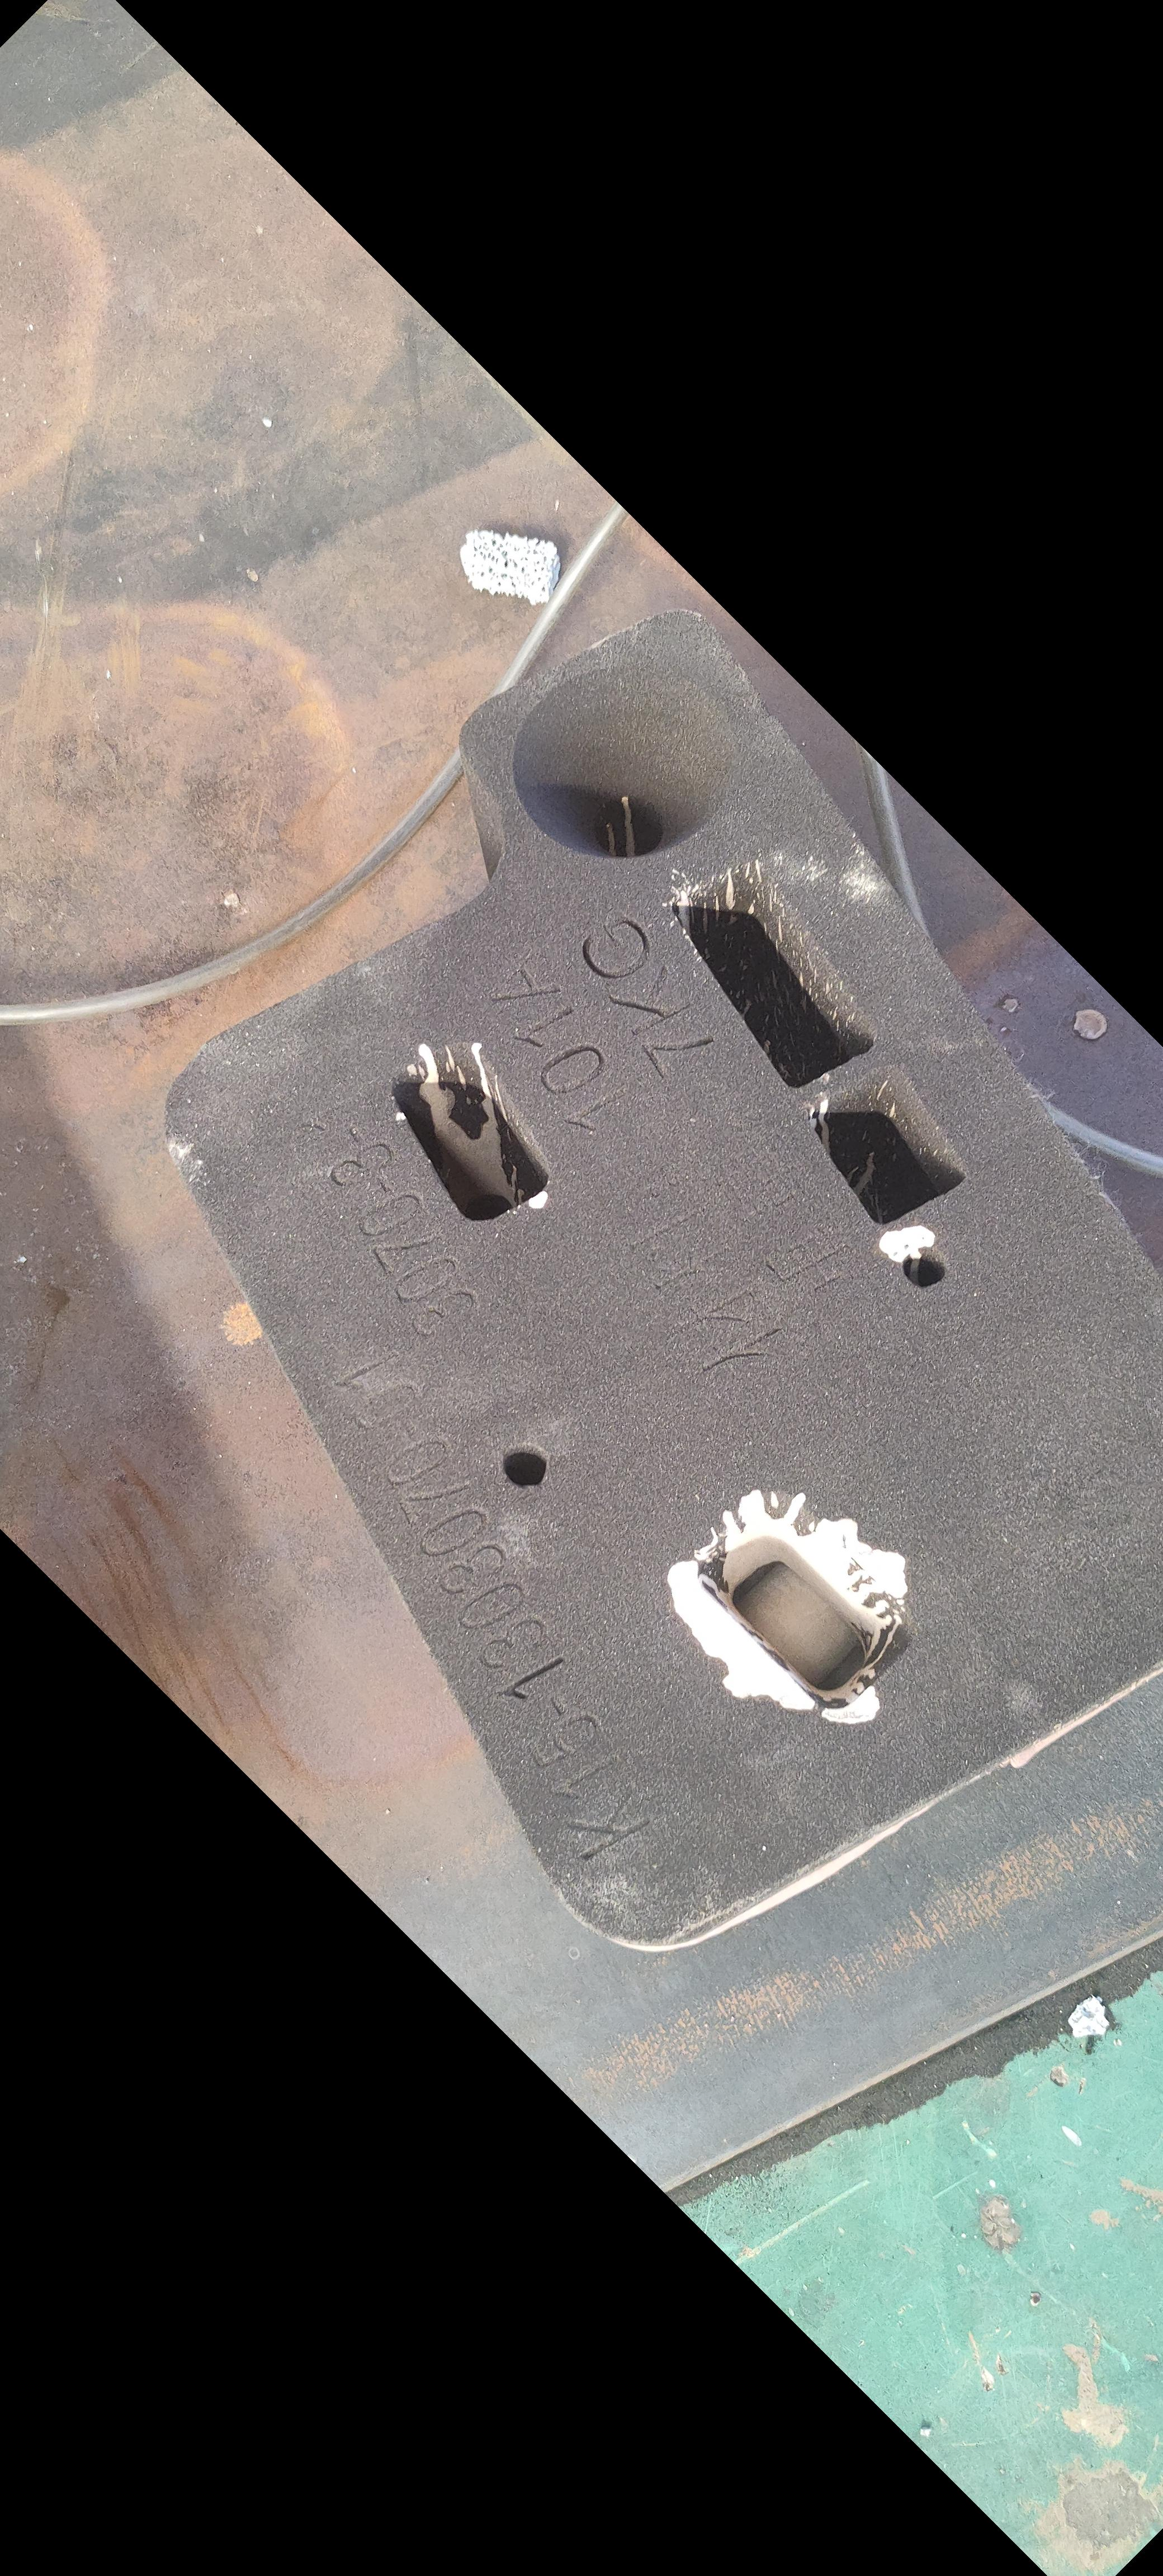pouring hole: (511, 665, 734, 861)
